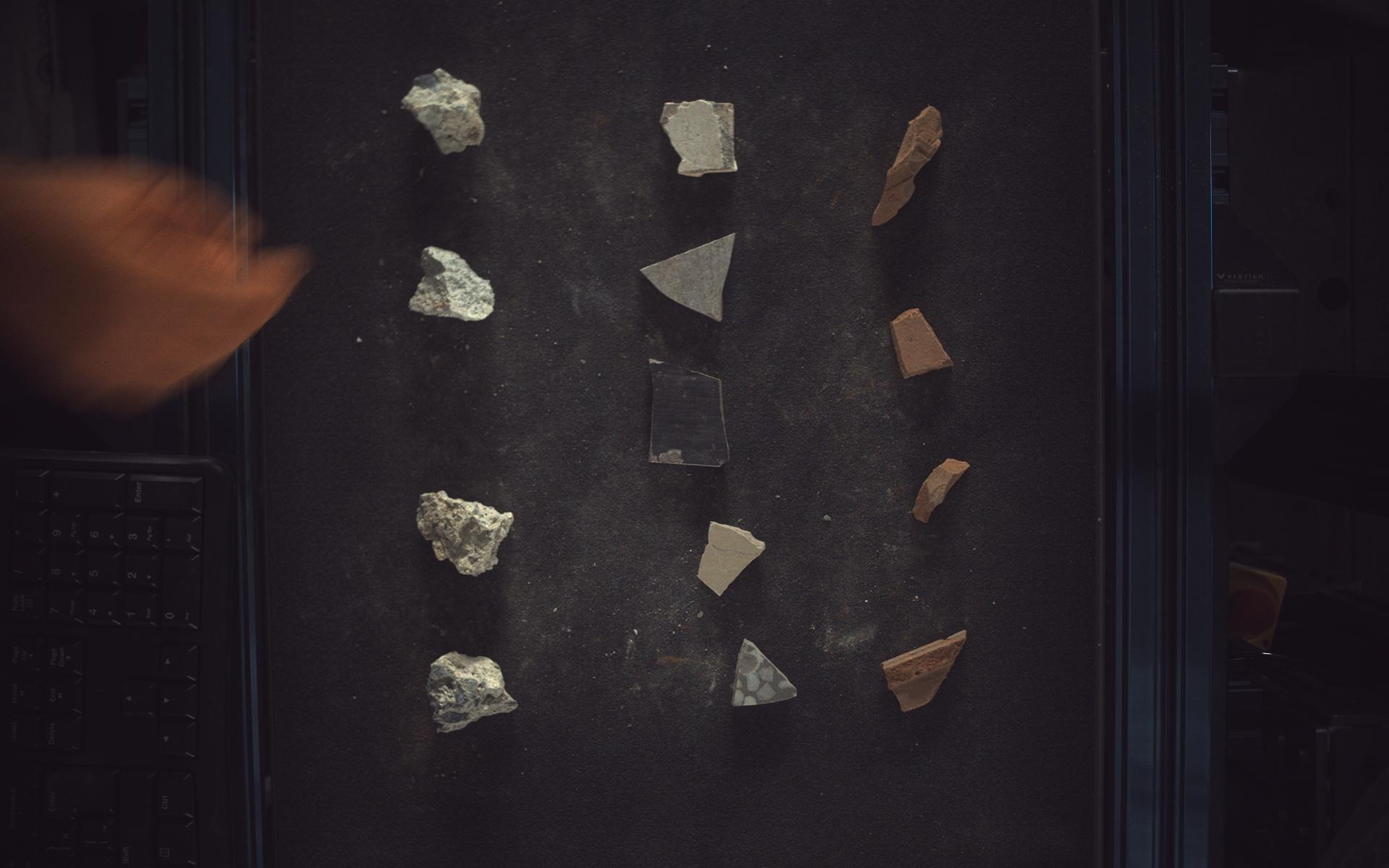brick: (873, 104, 943, 225), (884, 632, 969, 713), (893, 308, 955, 378), (914, 459, 971, 524)
concrete: (417, 491, 513, 576), (427, 652, 517, 733), (402, 67, 485, 153), (409, 246, 495, 320), (661, 98, 738, 176)
tile: (650, 359, 730, 467), (642, 233, 736, 321), (699, 522, 767, 597), (733, 640, 799, 708)
